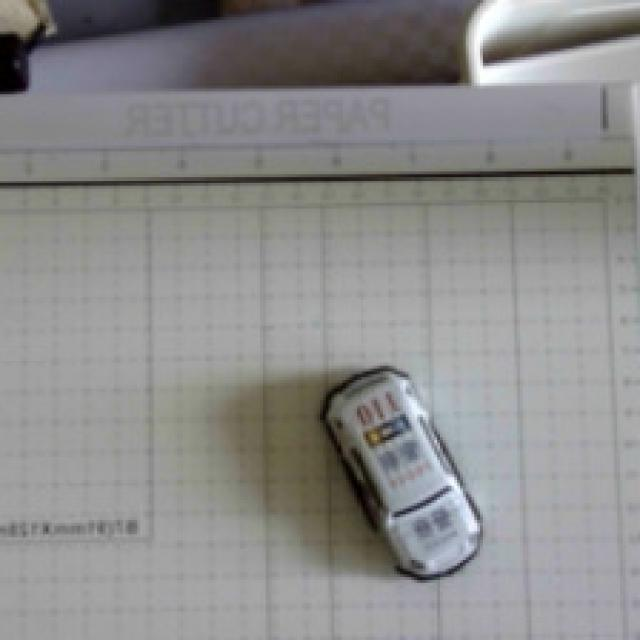Grey Car: (268, 354, 508, 620)
